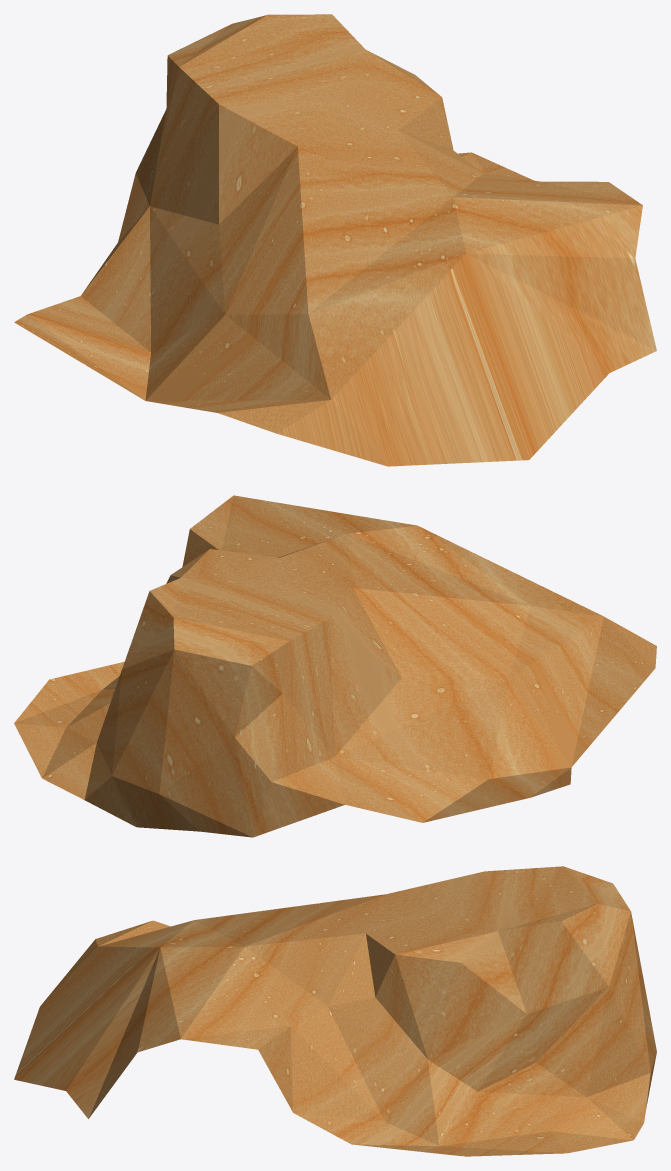
The model's file is Hill.fbx.
3 renders of one model, top to bottom at view 1: azimuth 30°, elevation 25°; view 2: azimuth 150°, elevation 25°; view 3: azimuth 270°, elevation 25°, orthographic. The views are drawn at different scales.
Parts seen in each view (by area): view 1: Cube.029; view 2: Cube.029; view 3: Cube.029.
Boxes of the visible parts, x1,y1,x2,y2 form: Cube.029: [14, 14, 656, 466]; Cube.029: [14, 495, 656, 837]; Cube.029: [14, 866, 656, 1156].
Size of the model in its own units: 627 by 676 by 236.
1 material, 1 textured.
